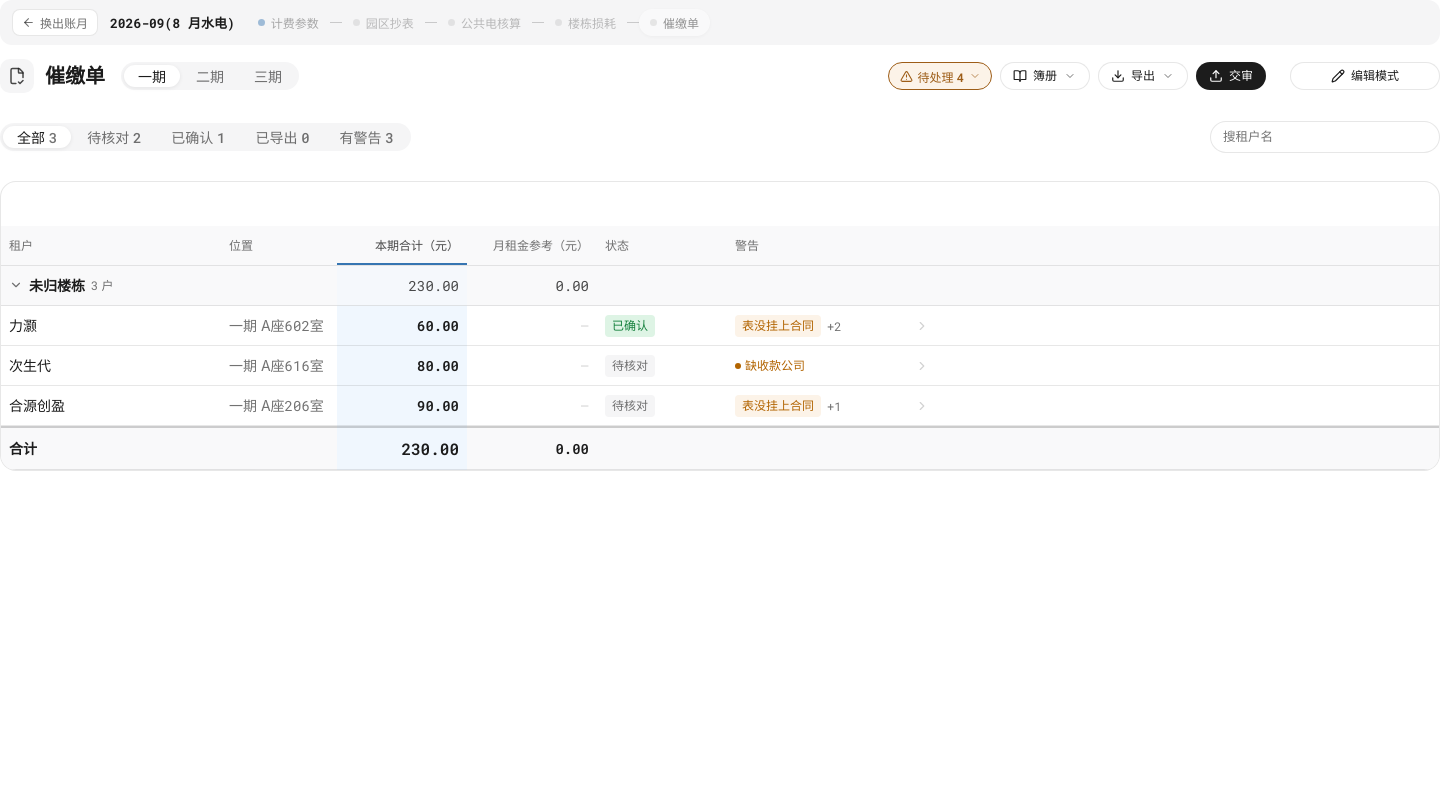
Test: 催缴单抽屉 · ③ 确认与逐户导航都在底部动作条上 › 已确认 + 有签发权:出「取消确认」,并且不再说不能改回草稿
Click the button with class "fp-emb".
click(1365, 76)  # box [1290,62,1439,90]
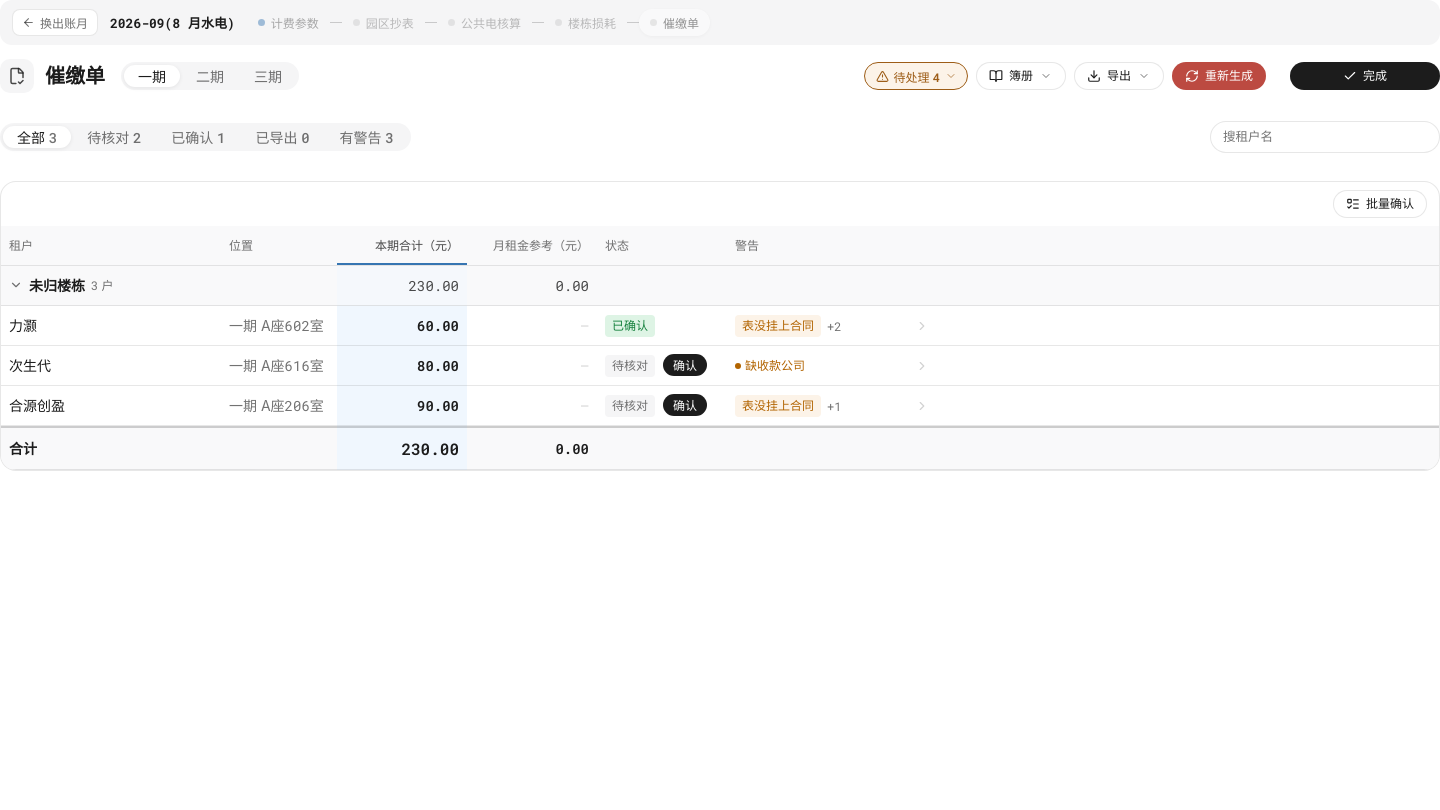
Click the row "力灏 一期 A座602室 60.00 – 已确认 表没挂上合同 +2".
click(720, 326)  # box [1,306,1439,346]
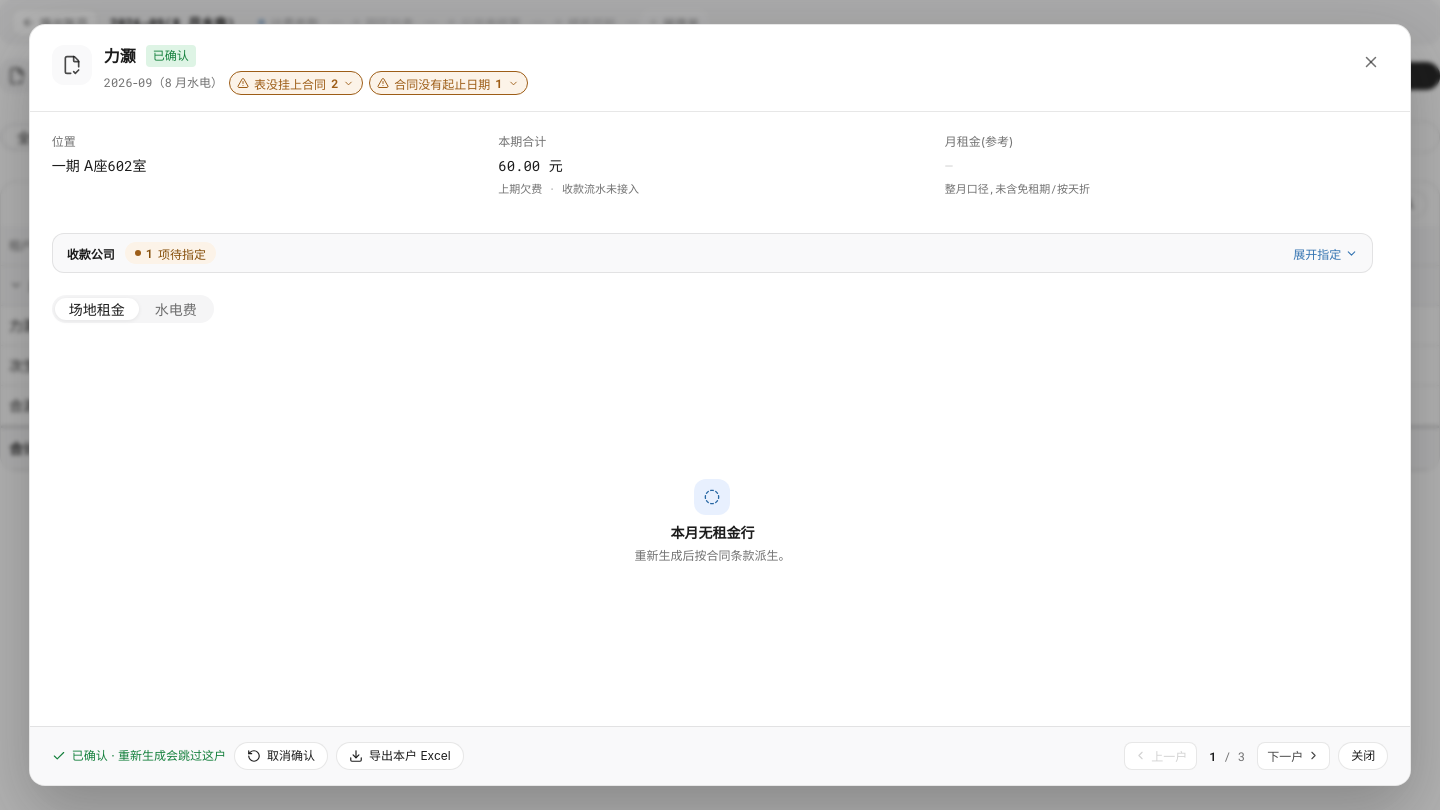
Expected: the element with class "fp-dwr-ft" shows "取消确认", [234,742,328,770]
Expected: the element with class "fp-dwr-ft" shows "已确认", [72,748,226,763]
